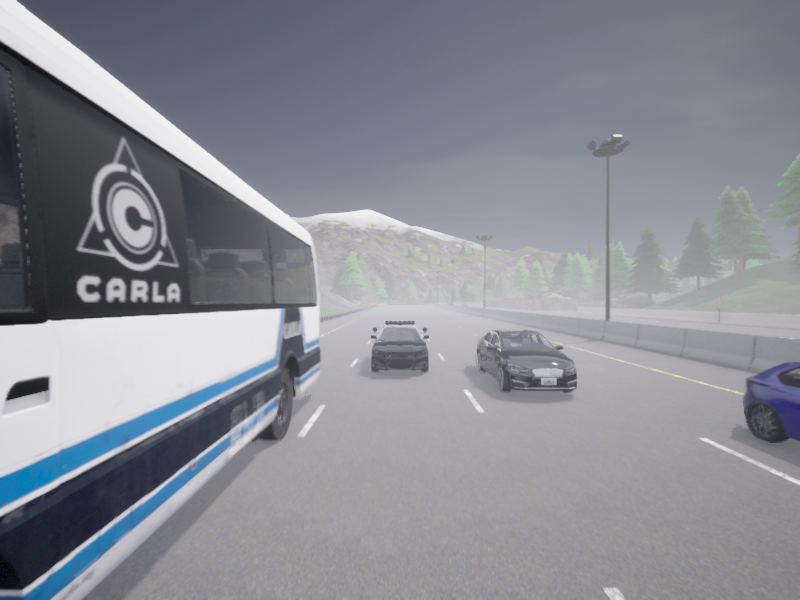vehicle: (0, 0, 320, 599), (476, 329, 576, 392), (742, 361, 799, 442), (371, 321, 428, 372), (460, 303, 466, 305), (485, 301, 489, 303), (447, 302, 451, 304)
